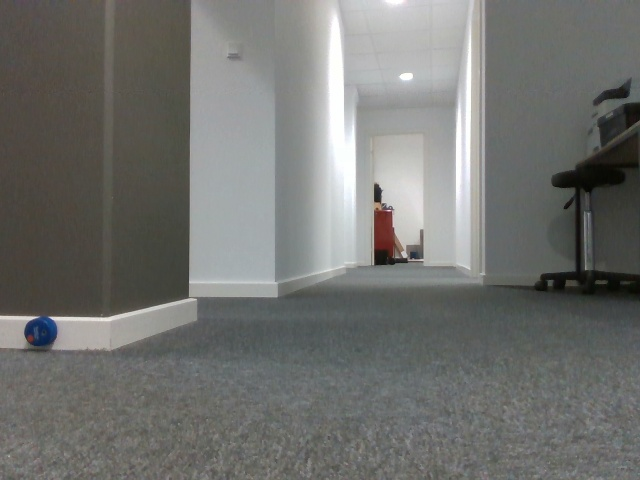alfa: (18, 315, 62, 348)
